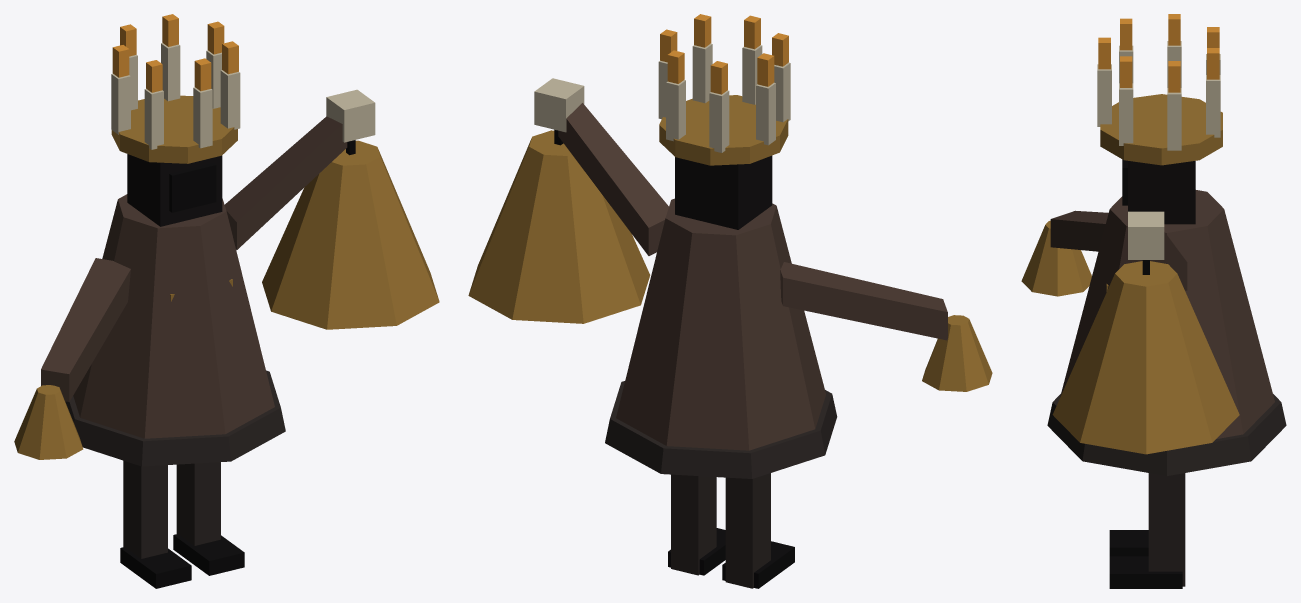
File: HollowCourtRegent_uv.glb
The picture shows the model from 3 angles, left to right: view 1: azimuth 30°, elevation 25°; view 2: azimuth 150°, elevation 25°; view 3: azimuth 270°, elevation 25°; orthographic projection. The views are drawn at different scales.
Visible parts, largest first — view 1: HollowCourtRegent; view 2: HollowCourtRegent; view 3: HollowCourtRegent.
Boxes of the visible parts, left/top/right/bottom form: HollowCourtRegent: left=14, top=14, right=439, bottom=588; HollowCourtRegent: left=468, top=14, right=992, bottom=588; HollowCourtRegent: left=1021, top=14, right=1286, bottom=588.
Size of the model in its own units: 5.15 by 5.59 by 2.55.
1 material, 1 textured.
